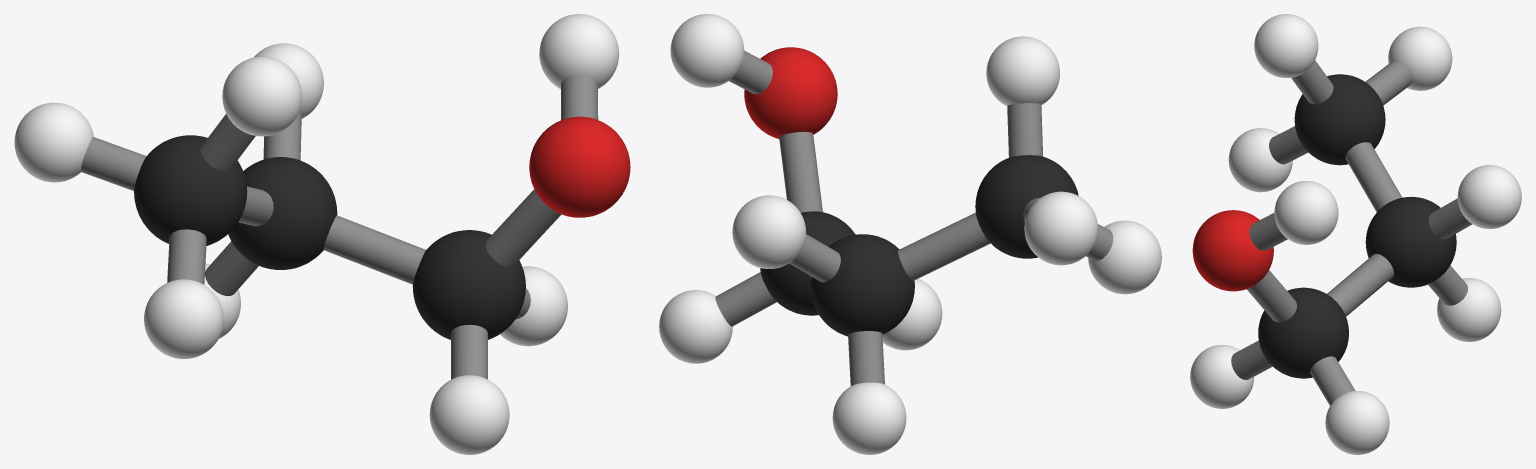
The model's file is propan-1-ol.glb.
3 views of the same model, side by side, from view 1: azimuth 30°, elevation 25°; view 2: azimuth 150°, elevation 25°; view 3: azimuth 270°, elevation 25° (orthographic). The views are drawn at different scales.
Parts seen in each view (by area): view 1: C_2, C_0, C_1, O_3, H_5, H_9, H_6, H_4, H_11, B1, H_10, B2 (+10 smaller); view 2: C_1, O_3, C_0, H_4, H_8, H_11, H_7, H_5, H_10, H_6, C_2, B0 (+8 smaller); view 3: C_0, C_1, C_2, O_3, H_11, H_5, H_10, H_8, H_4, H_9, H_7, H_6 (+11 smaller).
Part boxes in pixels (bbox=[...]): C_2: bbox=[412, 230, 525, 339]; C_0: bbox=[134, 135, 247, 245]; C_1: bbox=[228, 157, 337, 269]; O_3: bbox=[529, 116, 630, 217]; H_5: bbox=[222, 56, 302, 136]; H_9: bbox=[429, 375, 509, 454]; H_6: bbox=[144, 279, 223, 359]; H_4: bbox=[14, 102, 93, 182]; H_11: bbox=[539, 14, 619, 89]; B1: bbox=[323, 215, 425, 284]; H_10: bbox=[500, 266, 567, 346]; B2: bbox=[485, 189, 561, 267]; C_1: bbox=[810, 234, 914, 336]; O_3: bbox=[744, 47, 837, 138]; C_0: bbox=[975, 155, 1078, 258]; H_4: bbox=[1024, 191, 1097, 265]; H_8: bbox=[732, 195, 806, 268]; H_11: bbox=[670, 14, 744, 87]; H_7: bbox=[832, 382, 906, 454]; H_5: bbox=[986, 36, 1059, 105]; H_10: bbox=[659, 290, 732, 363]; H_6: bbox=[1088, 220, 1161, 294]; C_2: bbox=[760, 211, 855, 315]; B0: bbox=[898, 212, 990, 280]; C_0: bbox=[1294, 74, 1385, 165]; C_1: bbox=[1365, 196, 1456, 287]; C_2: bbox=[1258, 287, 1348, 378]; O_3: bbox=[1192, 210, 1273, 291]; H_11: bbox=[1274, 181, 1338, 244]; H_5: bbox=[1254, 14, 1318, 77]; H_10: bbox=[1325, 391, 1389, 454]; H_8: bbox=[1457, 165, 1521, 228]; H_4: bbox=[1388, 26, 1452, 90]; H_9: bbox=[1190, 344, 1254, 408]; H_7: bbox=[1437, 278, 1501, 341]; H_6: bbox=[1228, 128, 1292, 192].
Size of the model in its own units: 4.53 by 3.33 by 3.1.
